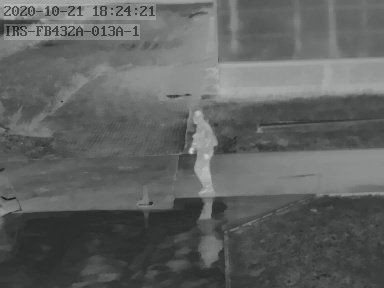person: (188, 110, 218, 194)
